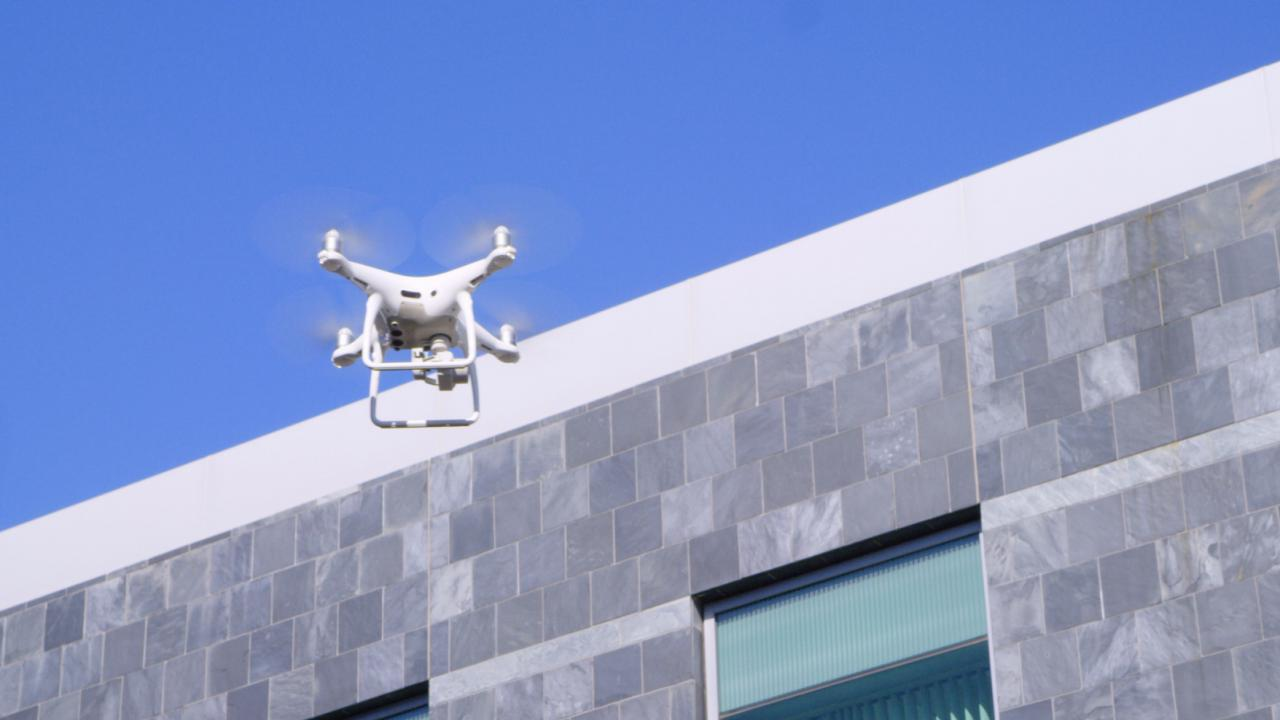Drone: (252, 173, 580, 442)
